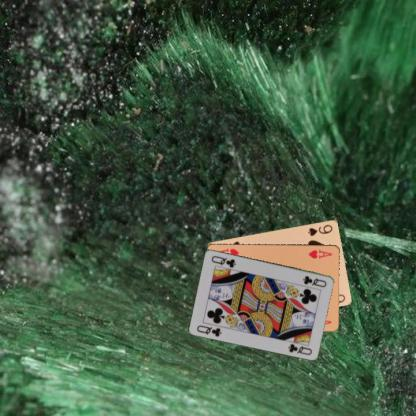9s: (306, 222, 334, 237)
Ah: (306, 247, 334, 260)
Qc: (194, 322, 223, 338), (300, 274, 328, 288)
